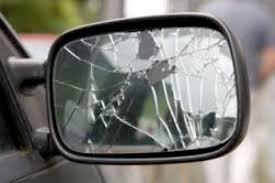Broken-glass: (55, 27, 236, 152)
